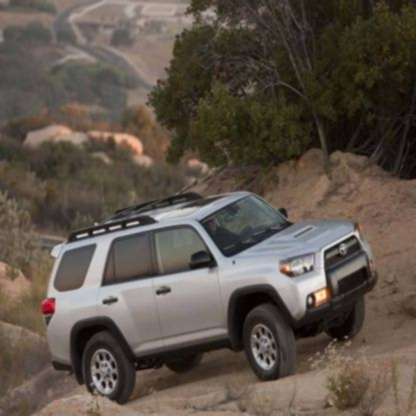Vehicle: (44, 190, 379, 401)
